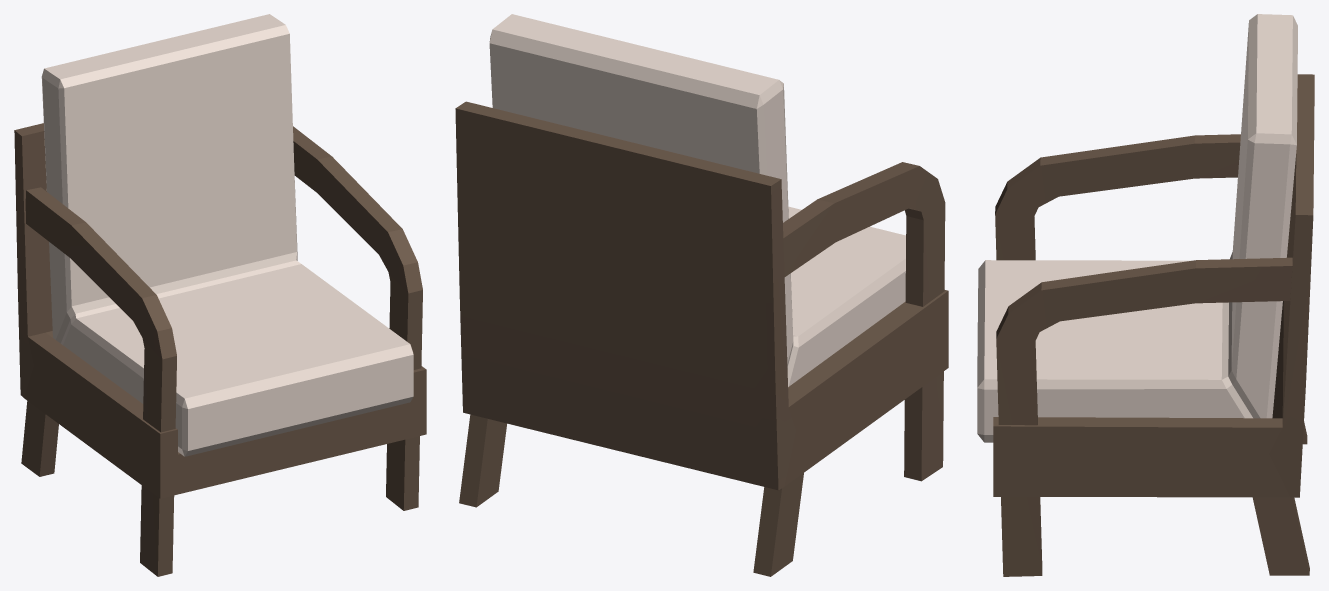
File: Chair_1_231109.glb
The picture shows the model from 3 angles, left to right: view 1: azimuth 30°, elevation 25°; view 2: azimuth 150°, elevation 25°; view 3: azimuth 270°, elevation 25°; orthographic projection. The views are drawn at different scales.
Parts seen in each view (by area): view 1: Chair_1; view 2: Chair_1; view 3: Chair_1.
Part boxes in pixels (bbox=[...]): Chair_1: bbox=[14, 14, 426, 576]; Chair_1: bbox=[455, 14, 948, 576]; Chair_1: bbox=[977, 14, 1314, 576].
Size of the model in its own units: 0.8955 by 1.3 by 0.9021.
Materials: 1 (1 with a texture image).
